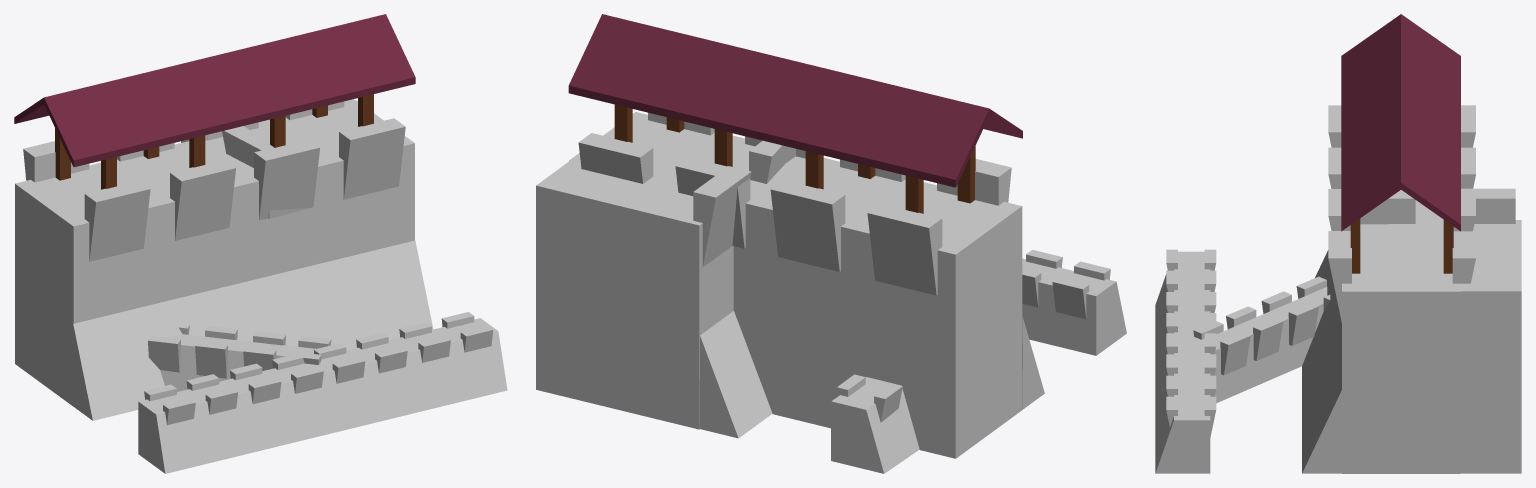
The model's file is Wall - Fortified.fbx.
The picture shows the model from 3 angles, left to right: view 1: azimuth 30°, elevation 25°; view 2: azimuth 150°, elevation 25°; view 3: azimuth 270°, elevation 25°; orthographic projection. The views are drawn at different scales.
Parts seen in each view (by area): view 1: Castle_Wall, Cover_001, Rampart_004, Ditch_Wall_004, Parapet, Ditch_Wall_006, Counterscarp_, Counterscarp__001, Parapet_001, Castle_Wall_001; view 2: Castle_Wall, Castle_Wall_001, Cover_001, Parapet, Rampart_006, Ditch_Wall_004, Ditch_Wall_006, Parapet_001, Counterscarp_, Counterscarp__001, Rampart_004; view 3: Castle_Wall, Cover_001, Castle_Wall_001, Ditch_Wall_004, Rampart_004, Parapet, Ditch_Wall_006, Counterscarp__001, Counterscarp_, Parapet_001.
Part boxes in pixels (x1,y1,x2,y2): Castle_Wall: (15,100,414,405); Cover_001: (14,14,415,189); Rampart_004: (73,240,433,420); Ditch_Wall_004: (138,318,507,473); Parapet: (23,101,405,261); Ditch_Wall_006: (160,318,506,423); Counterscarp_: (144,312,493,425); Counterscarp__001: (148,325,331,378); Parapet_001: (181,118,404,218); Castle_Wall_001: (181,99,413,266); Castle_Wall: (569,112,1022,458); Castle_Wall_001: (536,114,758,429); Cover_001: (568,14,1022,213); Parapet: (578,112,1011,295); Rampart_006: (699,311,772,438); Ditch_Wall_004: (1022,258,1126,355); Ditch_Wall_006: (831,377,919,473); Parapet_001: (649,113,795,267); Counterscarp_: (1022,250,1110,319); Counterscarp__001: (837,374,902,422); Rampart_004: (1022,316,1044,409); Castle_Wall: (1342,200,1460,473); Cover_001: (1341,14,1460,273); Castle_Wall_001: (1342,220,1521,473); Ditch_Wall_004: (1155,251,1210,473); Rampart_004: (1302,250,1342,473); Parapet: (1328,105,1475,322); Ditch_Wall_006: (1155,287,1327,471); Counterscarp__001: (1193,276,1330,375); Counterscarp_: (1166,249,1216,437); Parapet_001: (1328,188,1515,257).
Bounding box in the file's own units: 9.99 × 8.04 × 9.16.
